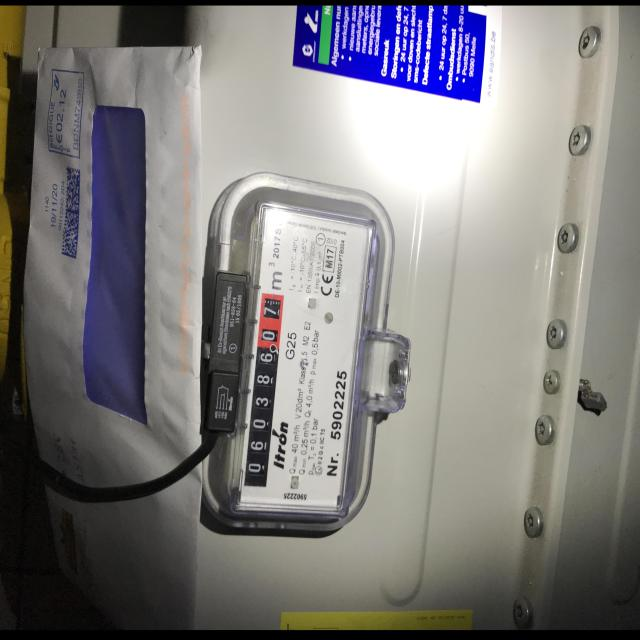gaz_meter: (238, 205, 371, 516)
indication: (241, 290, 289, 489)
